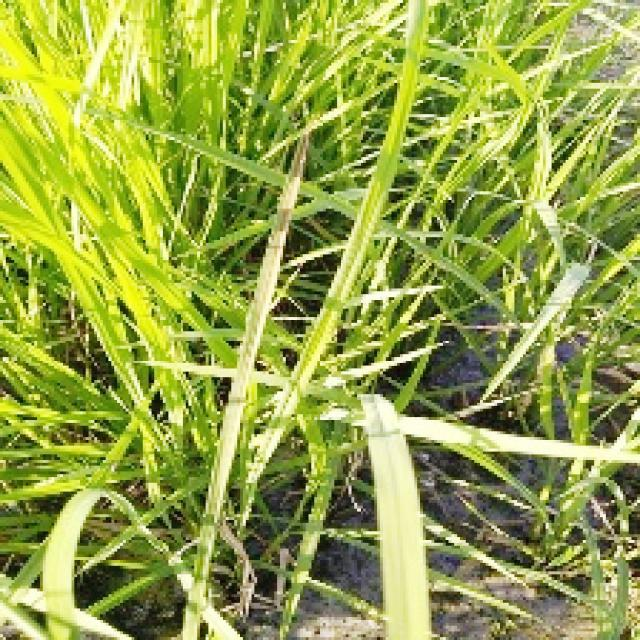health: (1, 0, 205, 292)
